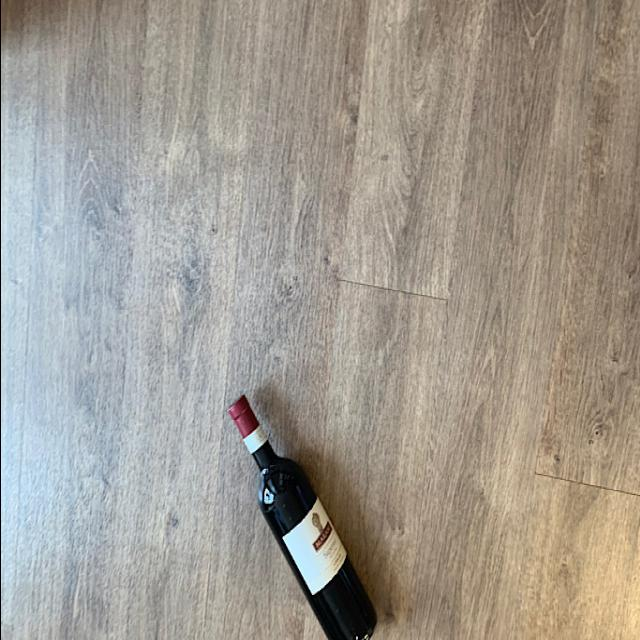litter: (210, 391, 378, 640)
